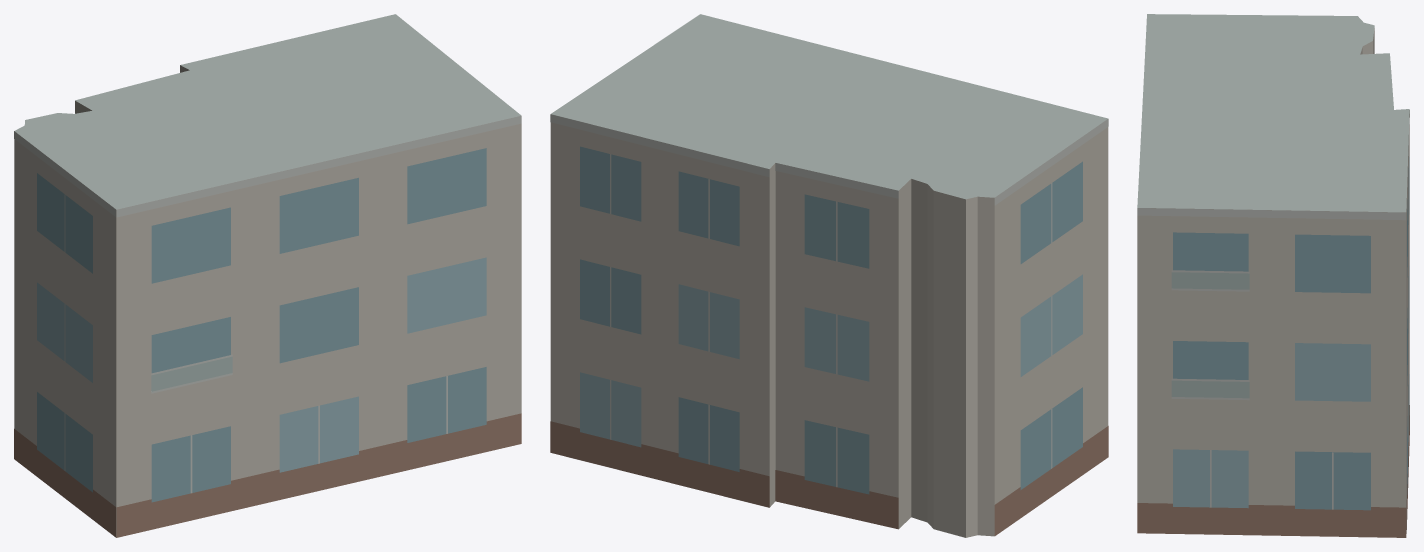
File: survey-upis-32626896.glb
3 views of the same model, side by side, from view 1: azimuth 30°, elevation 25°; view 2: azimuth 150°, elevation 25°; view 3: azimuth 270°, elevation 25° (orthographic). The views are drawn at different scales.
Visible parts, largest first — view 1: survey-upis-32626896.tmp; view 2: survey-upis-32626896.tmp; view 3: survey-upis-32626896.tmp.
Boxes of the visible parts, left/top/right/bottom form: survey-upis-32626896.tmp: left=14, top=14, right=521, bottom=537; survey-upis-32626896.tmp: left=550, top=14, right=1108, bottom=537; survey-upis-32626896.tmp: left=1137, top=14, right=1409, bottom=537.
Size of the model in its own units: 13.35 by 10.2 by 7.75.
